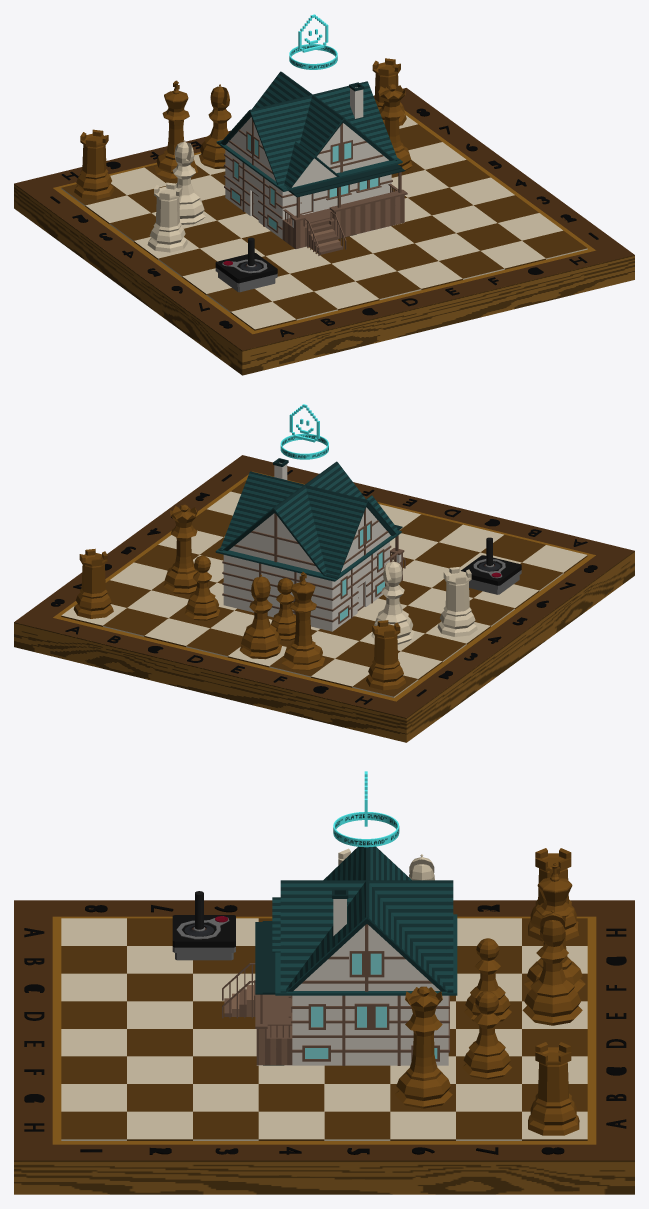
3 renders of one model, top to bottom at view 1: azimuth 30°, elevation 25°; view 2: azimuth 150°, elevation 25°; view 3: azimuth 270°, elevation 25°, orthographic. The views are drawn at different scales.
Visible parts, largest first — view 1: Cube.002, Cube.793, OBJRANDOM_JOYSTICK, TYPE_PREMIUM; view 2: Cube.002, Cube.793, OBJRANDOM_JOYSTICK, TYPE_PREMIUM; view 3: Cube.002, Cube.793, OBJRANDOM_JOYSTICK, TYPE_PREMIUM.
Part boxes in pixels (x1,y1,x2,y2): Cube.002: [14, 58, 634, 375]; Cube.793: [216, 71, 407, 255]; OBJRANDOM_JOYSTICK: [215, 237, 277, 292]; TYPE_PREMIUM: [289, 14, 337, 69]; Cube.002: [14, 455, 634, 742]; Cube.793: [215, 458, 405, 631]; OBJRANDOM_JOYSTICK: [461, 537, 521, 594]; TYPE_PREMIUM: [280, 404, 328, 459]; Cube.002: [14, 848, 634, 1194]; Cube.793: [222, 846, 457, 1065]; OBJRANDOM_JOYSTICK: [172, 891, 235, 960]; TYPE_PREMIUM: [333, 771, 399, 847].
Size of the model in its own units: 3981 by 2178 by 4012.
Materials: 27 (4 with a texture image).
